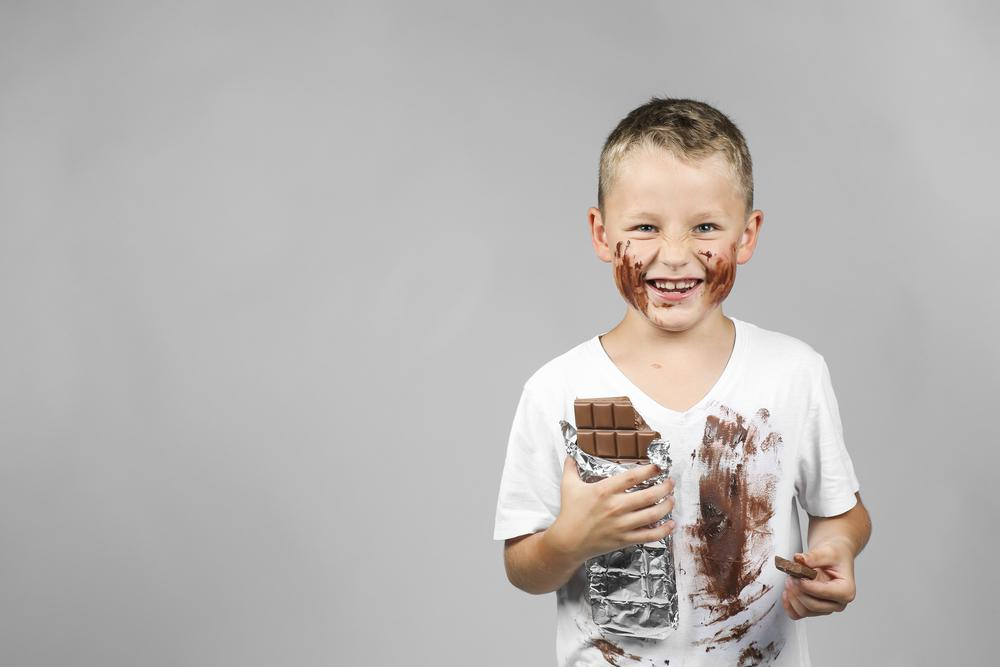gun: (694, 408, 777, 666)
